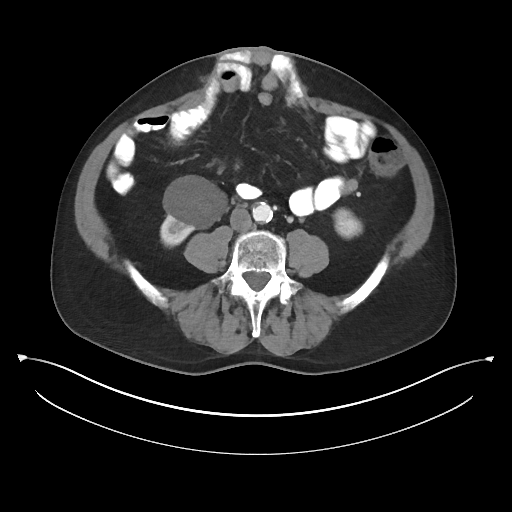Lesion: (163, 173, 229, 232)
